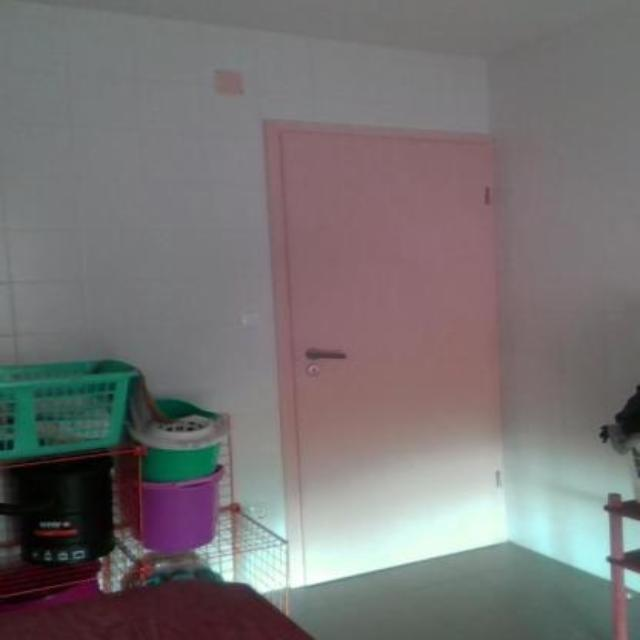door: (263, 118, 507, 588)
